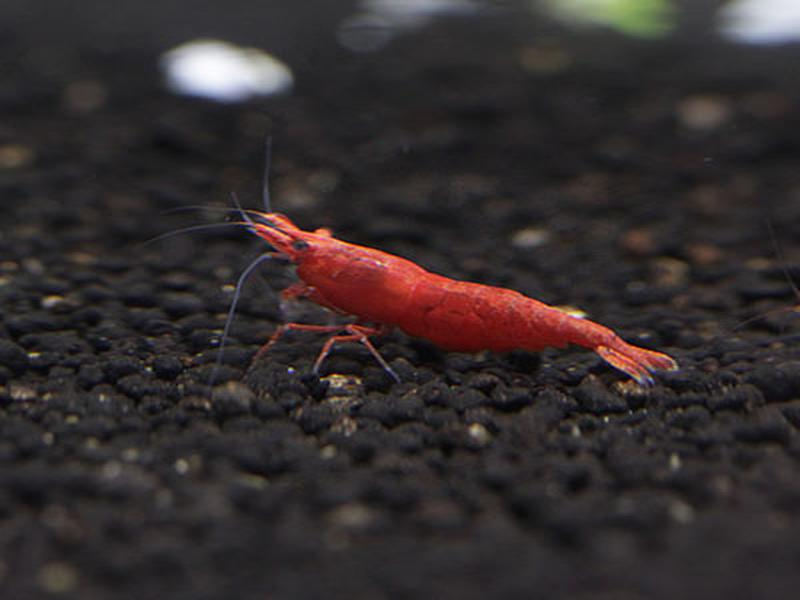shrimp: (246, 212, 677, 371)
